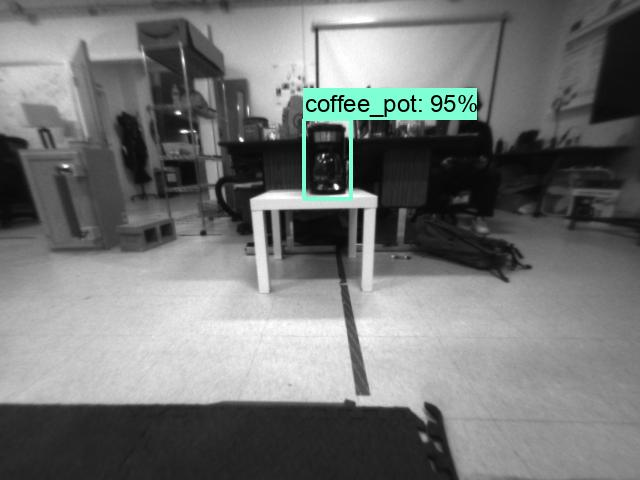coffee_pot: (300, 121, 353, 197)
